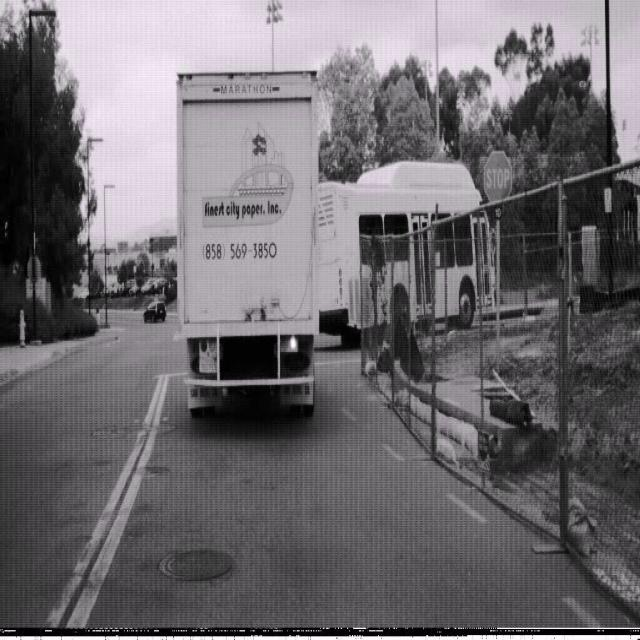stop_sign: (483, 150, 513, 207)
